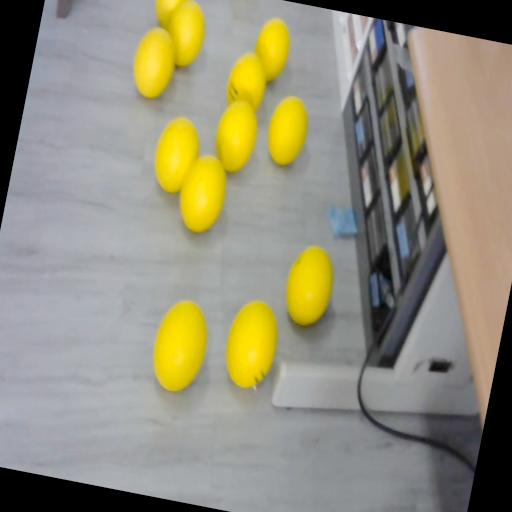FUEL: (145, 294, 215, 396), (218, 294, 286, 394), (279, 240, 340, 328), (173, 149, 233, 236), (148, 112, 206, 196), (209, 95, 264, 176), (128, 24, 182, 101), (262, 91, 314, 168), (160, 0, 212, 71), (222, 48, 272, 114)
